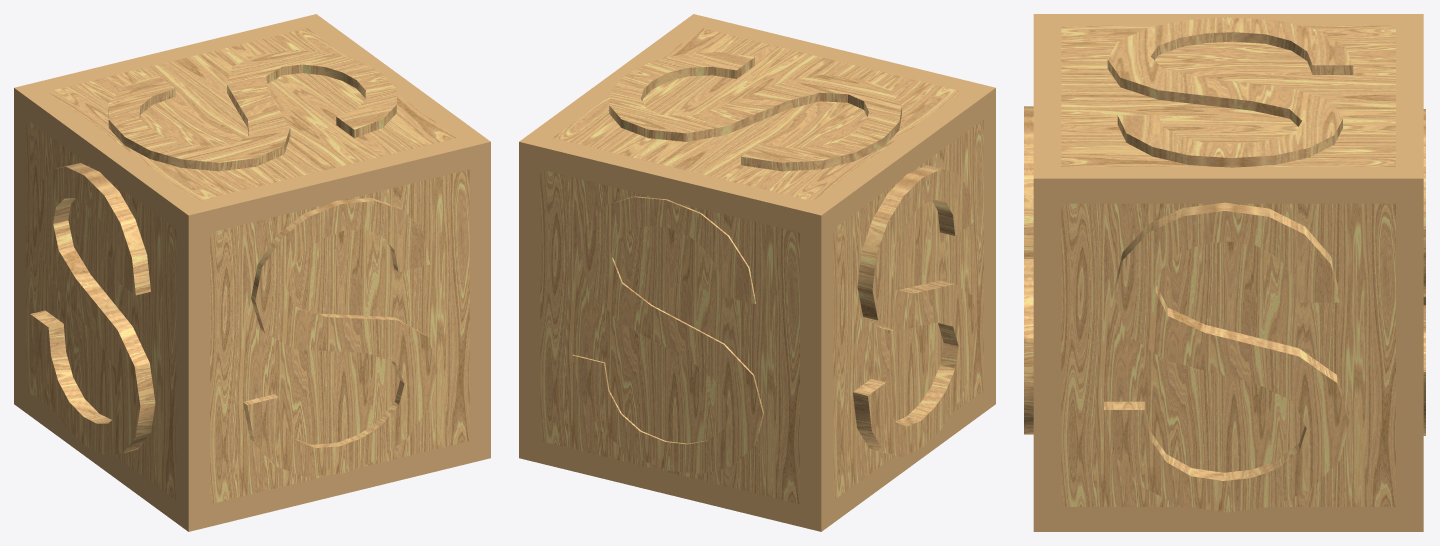
The model's file is block-s.fbx.
The picture shows the model from 3 angles, left to right: view 1: azimuth 30°, elevation 25°; view 2: azimuth 150°, elevation 25°; view 3: azimuth 270°, elevation 25°; orthographic projection. The views are drawn at different scales.
Parts seen in each view (by area): view 1: Box, FRONT, LEFT, TOP; view 2: Box, BACK, LEFT, TOP; view 3: Box, RIGHT, TOP, FRONT, BACK.
Part boxes in pixels (x1,y1,x2,y2): Box: [14, 14, 490, 531]; FRONT: [243, 197, 437, 476]; LEFT: [30, 163, 155, 455]; TOP: [108, 50, 396, 171]; Box: [519, 14, 995, 531]; BACK: [572, 196, 763, 473]; LEFT: [853, 165, 977, 456]; TOP: [609, 52, 901, 171]; Box: [1033, 14, 1423, 531]; RIGHT: [1104, 202, 1349, 512]; TOP: [1107, 17, 1353, 167]; FRONT: [1024, 106, 1033, 434]; BACK: [1423, 109, 1425, 435].
Size of the model in its own units: 1.1 by 1.04 by 1.03.
Materials: 2 (2 with a texture image).
